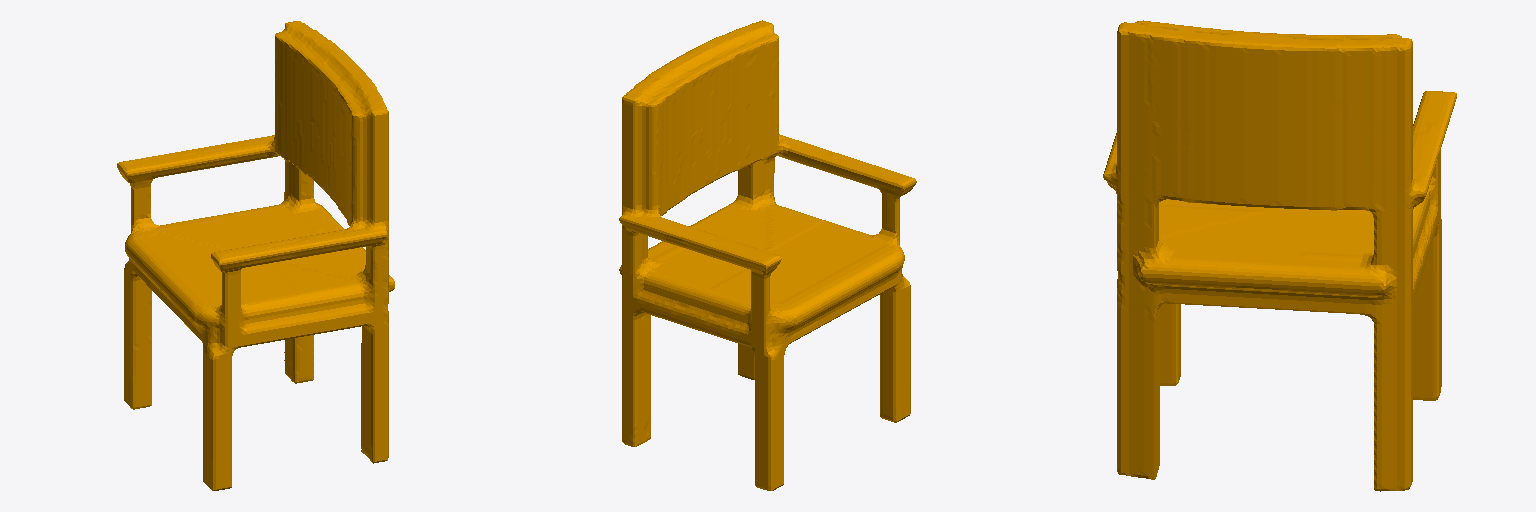
The robot description file, URDF, robot "03001627_fe57bad06e1f6dd9a9fe51c710ac111b_object":
<robot name="03001627_fe57bad06e1f6dd9a9fe51c710ac111b_object">
	<link name="_name">
		<visual>
			<origin xyz="1.2169072699941217 -0.9997635672088869 0.8222037413439858" rpy="0.0 0.0 0.0" />
			<geometry>
				<mesh filename="03001627_fe57bad06e1f6dd9a9fe51c710ac111b_object.obj" />
			</geometry>
		</visual>
		<collision>
			<origin rpy="0.0 0.0 0.0" xyz="1.2169072699941217 -0.9997635672088869 0.8222037413439858" />
			<geometry>
				<mesh filename="03001627_fe57bad06e1f6dd9a9fe51c710ac111b_object_vhacd.obj" />
			</geometry>
		</collision>
		<inertial>
			<origin rpy="0 0 0" xyz="0 0 0" />
			<mass value="1.0" />
			<inertia ixx="0.001" ixy="0.0" ixz="0.0" iyy="0.001" iyz="0.0" izz="0.001" />
		</inertial>
	</link>
</robot>

--- What the picture shows (computed from the rendered views, not written in the file) ---
3 views of the same robot in one strip: view 1: azimuth 30°, elevation 25°; view 2: azimuth 150°, elevation 25°; view 3: azimuth 270°, elevation 25° (orthographic).
Robot: 03001627_fe57bad06e1f6dd9a9fe51c710ac111b_object — 1 links, 0 joints (none); root link _name; default pose: every joint at zero.
Visible links, largest first — view 1: _name; view 2: _name; view 3: _name.
Boxes of the visible links, x1,y1,x2,y2 form: _name: (117,21,394,490); _name: (619,20,916,490); _name: (1103,20,1456,491).
Size in the robot's own frame: 0.5577 by 0.6486 by 0.903 metres.
1 mesh visuals loaded from 1 distinct referenced files (1 OBJ).
